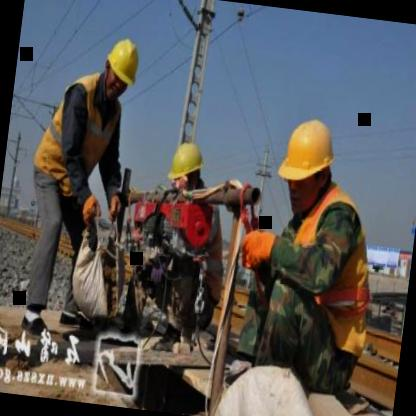helmet: (272, 108, 342, 214), (98, 30, 144, 106), (164, 132, 209, 200)
